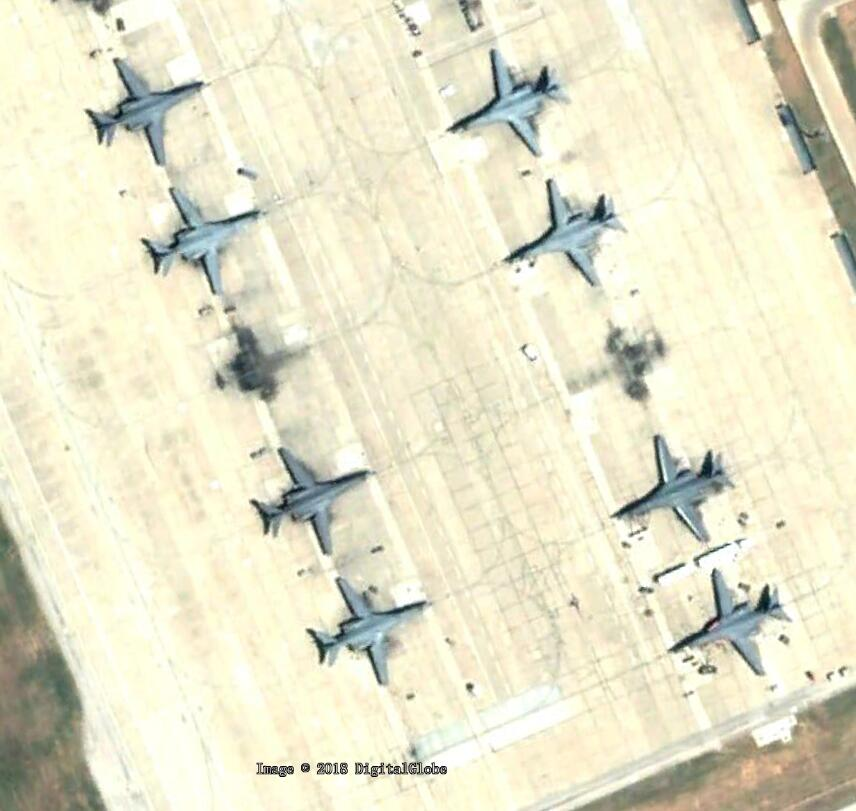A10: (607, 432, 740, 547), (246, 445, 382, 557), (138, 184, 268, 301), (440, 47, 573, 161), (661, 568, 798, 678), (305, 575, 435, 688), (499, 180, 631, 289), (81, 56, 209, 168)
